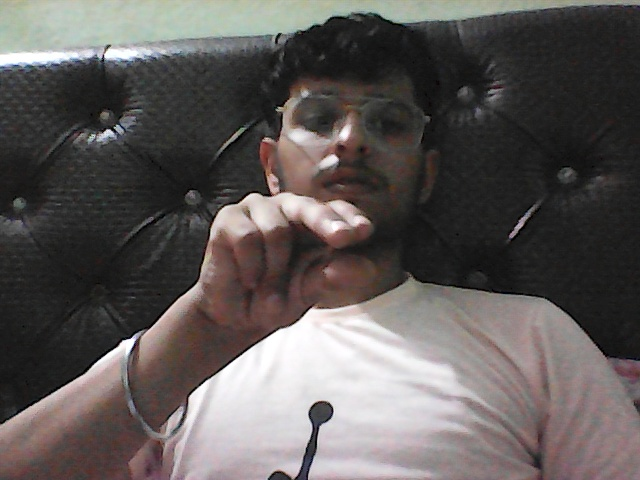no: (182, 173, 391, 374)
